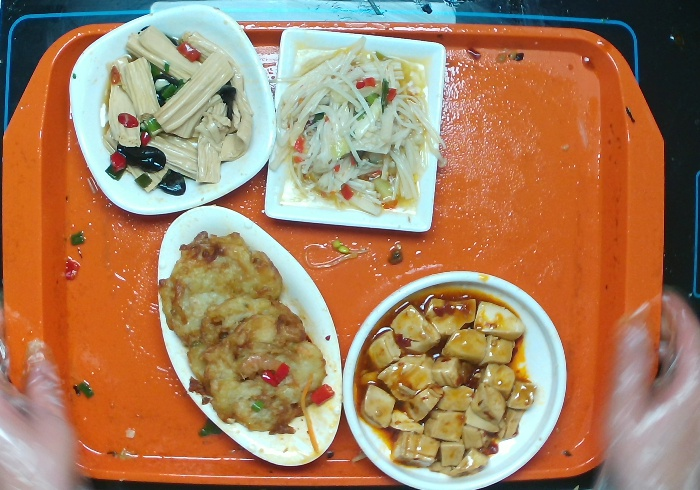HZYJPL-Si_Fang_Die: (263, 26, 447, 231)
HZYJPL-Si_Fang_Yuan_Die: (68, 3, 278, 218)
HZYJPL-Xiao_Yu_Die: (156, 203, 342, 466)
HZYJPL-Xiao_Yuan_Die: (341, 269, 569, 490)
